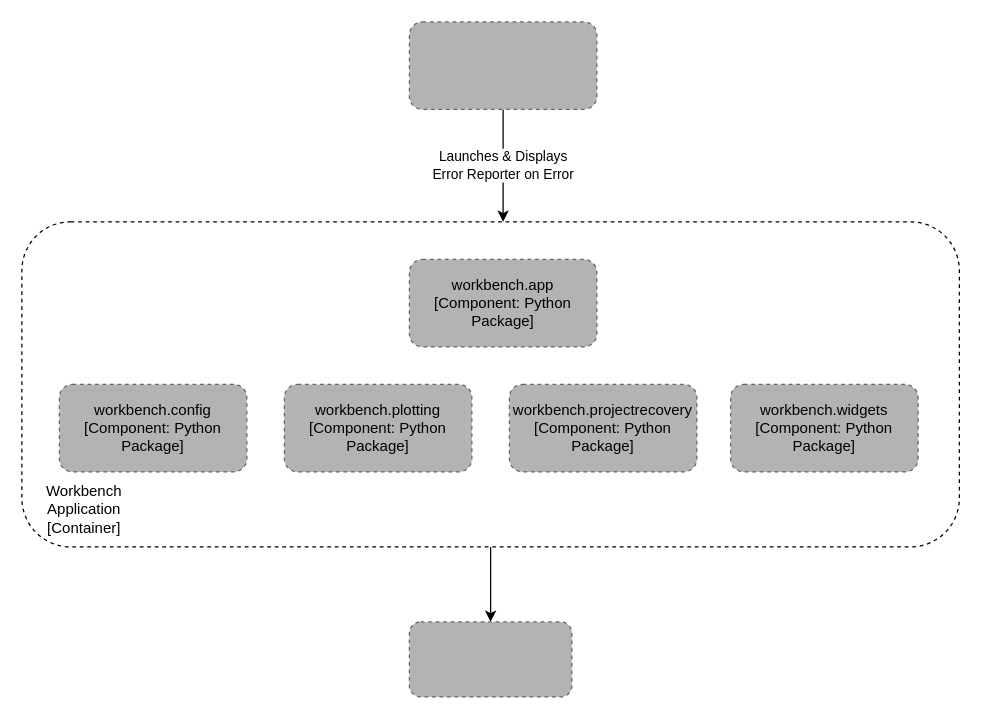
The diagram is 981 pixels wide and 719 high, and some of its shapes have lost their labels. The box of each missing label's shape, as (x1, y1, x2, y2) in pixels:
mantidqt [Component: Python]: (408, 621, 572, 697)
MantidWorkbench [Component: C++ Executable]: (408, 21, 597, 109)
